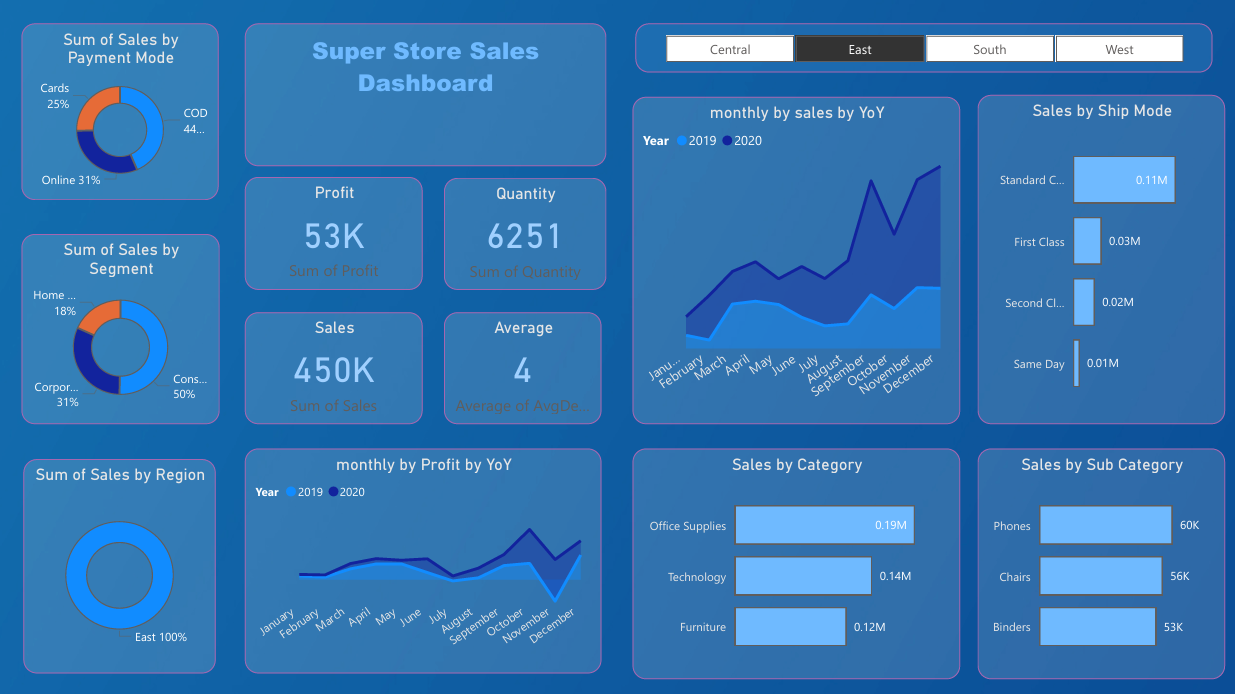

This screenshot's page, from the dashboard's own definition file:
{"tool":"powerbi","page":{"name":"Page 1","canvas":[1280,720],"ordinal":0},"visuals":[{"type":"clusteredBarChart","title":" Sales by Category","fields":{"Category":["SuperStore_Sales_Dataset.Category"],"Y":["Sum(SuperStore_Sales_Dataset.Sales)"]},"box":[656.3,466.3,338.3,238.5],"z":0},{"type":"clusteredBarChart","title":" Sales by Sub Category","fields":{"Category":["SuperStore_Sales_Dataset.Sub-Category"],"Y":["Sum(SuperStore_Sales_Dataset.Sales)"]},"box":[1013.4,466.3,256.1,238.5],"z":1000},{"type":"clusteredBarChart","title":" Sales by Ship Mode","fields":{"Category":["SuperStore_Sales_Dataset.Ship Mode"],"Y":["Sum(SuperStore_Sales_Dataset.Sales)"]},"box":[1013.4,99.7,256.1,341],"z":2000},{"type":"stackedAreaChart","title":"monthly by sales by YoY","fields":{"Y":["Sum(SuperStore_Sales_Dataset.Sales)"],"Category":["SuperStore_Sales_Dataset.Order Date.Variation.Date Hierarchy.Month","SuperStore_Sales_Dataset.Order Date.Variation.Date Hierarchy.Day"],"Series":["SuperStore_Sales_Dataset.Order Date.Variation.Date Hierarchy.Year"]},"box":[656.3,102.4,338.3,338.3],"z":3000},{"type":"stackedAreaChart","title":"monthly by Profit by YoY","fields":{"Category":["SuperStore_Sales_Dataset.Order Date.Variation.Date Hierarchy.Month","SuperStore_Sales_Dataset.Order Date.Variation.Date Hierarchy.Day"],"Series":["SuperStore_Sales_Dataset.Order Date.Variation.Date Hierarchy.Year"],"Y":["Sum(SuperStore_Sales_Dataset.Profit)"]},"box":[254.7,466.3,369.3,233.1],"z":4000},{"type":"donutChart","fields":{"Category":["SuperStore_Sales_Dataset.Payment Mode"],"Y":["Sum(SuperStore_Sales_Dataset.Sales)"]},"box":[24.3,25.6,203.5,183.3],"z":5000},{"type":"donutChart","fields":{"Category":["SuperStore_Sales_Dataset.Segment"],"Y":["Sum(SuperStore_Sales_Dataset.Sales)"]},"box":[24.3,243.9,204.8,196.8],"z":6000},{"type":"donutChart","fields":{"Category":["SuperStore_Sales_Dataset.Region"],"Y":["Sum(SuperStore_Sales_Dataset.Sales)"]},"box":[25.6,477.1,199.5,222.4],"z":7000},{"type":"slicer","fields":{"Values":["SuperStore_Sales_Dataset.Region"]},"box":[659,25.6,597,51.2],"z":8000},{"type":"textbox","box":[254.7,25.6,374.6,148.2],"z":9000},{"type":"card","title":"Sales","fields":{"Values":["Sum(SuperStore_Sales_Dataset.Sales)"]},"box":[254.7,324.8,184.6,115.9],"z":10000},{"type":"card","title":"Quantity","fields":{"Values":["Sum(SuperStore_Sales_Dataset.Quantity)"]},"box":[460.9,186,168.5,115.9],"z":11000},{"type":"card","title":"Profit","fields":{"Values":["Sum(SuperStore_Sales_Dataset.Profit)"]},"box":[254.7,184.6,184.6,117.2],"z":12000},{"type":"card","title":"Average","fields":{"Values":["Avg(SuperStore_Sales_Dataset.AvgDelivery)"]},"box":[460.9,324.8,163.1,115.9],"z":13000}]}

Visuals, with their boxes in screenshot pixels (x1, y1, x2, y2), scaled from the page's 1280x720 canvas onto the 1235x696 screenshot:
" Sales by Category" clusteredBarChart: detection(633, 451, 960, 681)
" Sales by Sub Category" clusteredBarChart: detection(978, 451, 1225, 681)
" Sales by Ship Mode" clusteredBarChart: detection(978, 96, 1225, 426)
"monthly by sales by YoY" stackedAreaChart: detection(633, 99, 960, 426)
"monthly by Profit by YoY" stackedAreaChart: detection(246, 451, 602, 676)
donutChart - SuperStore_Sales_Dataset.Payment Mode x Sum(SuperStore_Sales_Dataset.Sales): detection(23, 25, 220, 202)
donutChart - SuperStore_Sales_Dataset.Segment x Sum(SuperStore_Sales_Dataset.Sales): detection(23, 236, 221, 426)
donutChart - SuperStore_Sales_Dataset.Region x Sum(SuperStore_Sales_Dataset.Sales): detection(25, 461, 217, 676)
slicer - SuperStore_Sales_Dataset.Region: detection(636, 25, 1212, 74)
textbox: detection(246, 25, 607, 168)
"Sales" card: detection(246, 314, 424, 426)
"Quantity" card: detection(445, 180, 607, 292)
"Profit" card: detection(246, 178, 424, 292)
"Average" card: detection(445, 314, 602, 426)
